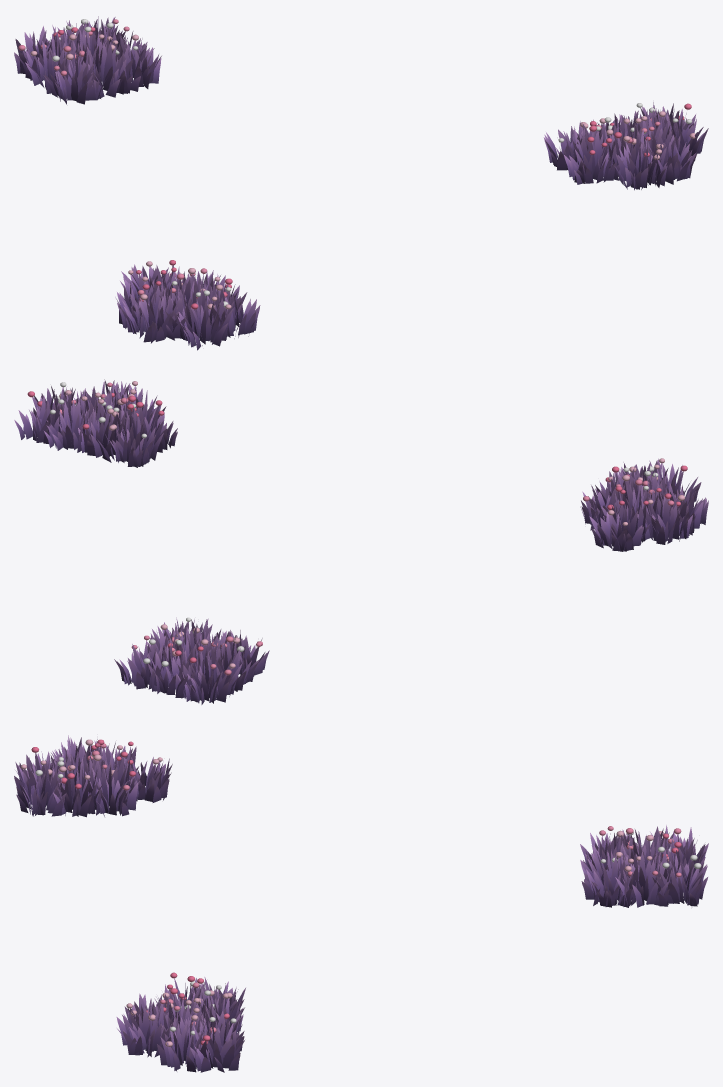
Rendered from trident_grass.glb.
3 renders of one model, top to bottom at view 1: azimuth 30°, elevation 25°; view 2: azimuth 150°, elevation 25°; view 3: azimuth 270°, elevation 25°, orthographic. The views are drawn at different scales.
Parts seen in each view (by area): view 1: Grass_9_20, Grass_10_21, Grass_25_17, Grass_26_18, Grass_15_5, Grass_16_5, Grass_27_18, Grass_17_5, Grass_15_4, Grass_11_21, Grass_15_3, Grass_28_17 (+10 smaller); view 2: Grass_10_18, Grass_15_3, Grass_16_3, Grass_25_16, Grass_9_19, Grass_27_16, Grass_26_16, Grass_15_4, Grass_28_16, Grass_17_3, Grass_25_17, Grass_10_19 (+10 smaller); view 3: Grass_17_5, Grass_28_16, Grass_27_18, Grass_17_3, Grass_11_21, Grass_11_19, Grass_28_17, Grass_17_4, Grass_11_20, Grass_10_18, Grass_10_19, Grass_10_21 (+14 smaller).
Part boxes in pixels (<box>): Grass_9_20: <box>120,281,186,343</box>; Grass_10_21: <box>165,289,233,350</box>; Grass_25_17: <box>564,125,623,184</box>; Grass_26_18: <box>608,128,667,190</box>; Grass_15_5: <box>43,46,108,104</box>; Grass_16_5: <box>76,40,132,100</box>; Grass_27_18: <box>640,126,696,184</box>; Grass_17_5: <box>108,34,161,91</box>; Grass_15_4: <box>25,30,86,93</box>; Grass_11_21: <box>207,284,260,338</box>; Grass_15_3: <box>14,26,58,80</box>; Grass_28_17: <box>657,103,708,160</box>; Grass_10_18: <box>589,501,650,551</box>; Grass_15_3: <box>176,647,242,704</box>; Grass_16_3: <box>148,638,203,698</box>; Grass_25_16: <box>97,405,163,467</box>; Grass_9_19: <box>637,492,692,544</box>; Grass_27_16: <box>44,393,101,452</box>; Grass_26_16: <box>78,400,128,461</box>; Grass_15_4: <box>197,632,259,691</box>; Grass_28_16: <box>14,389,71,443</box>; Grass_17_3: <box>114,635,175,689</box>; Grass_25_17: <box>126,400,177,452</box>; Grass_10_19: <box>611,482,659,541</box>; Grass_17_5: <box>581,850,636,907</box>; Grass_28_16: <box>190,1012,244,1072</box>; Grass_27_18: <box>116,999,171,1057</box>; Grass_17_3: <box>652,853,707,906</box>; Grass_11_21: <box>16,760,67,816</box>; Grass_11_19: <box>84,763,140,816</box>; Grass_28_17: <box>157,1015,210,1072</box>; Grass_17_4: <box>615,849,672,907</box>; Grass_11_20: <box>48,754,102,817</box>; Grass_10_18: <box>123,757,172,802</box>; Grass_10_19: <box>84,741,136,788</box>; Grass_10_21: <box>14,747,67,801</box>.
Size of the model in its own units: 10.29 by 0.7294 by 9.77.
